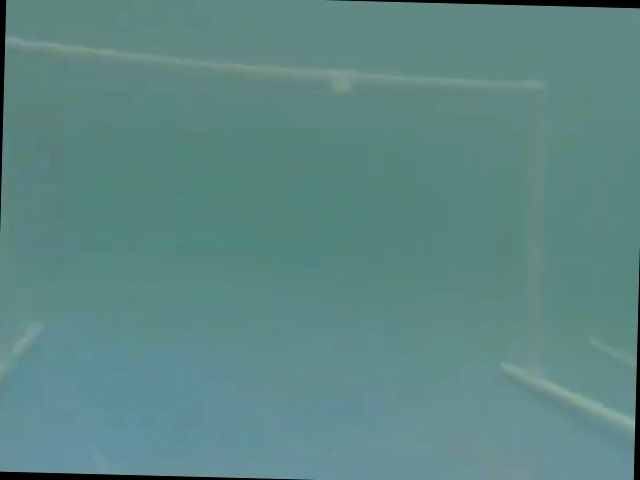gate: (5, 11, 626, 462)
